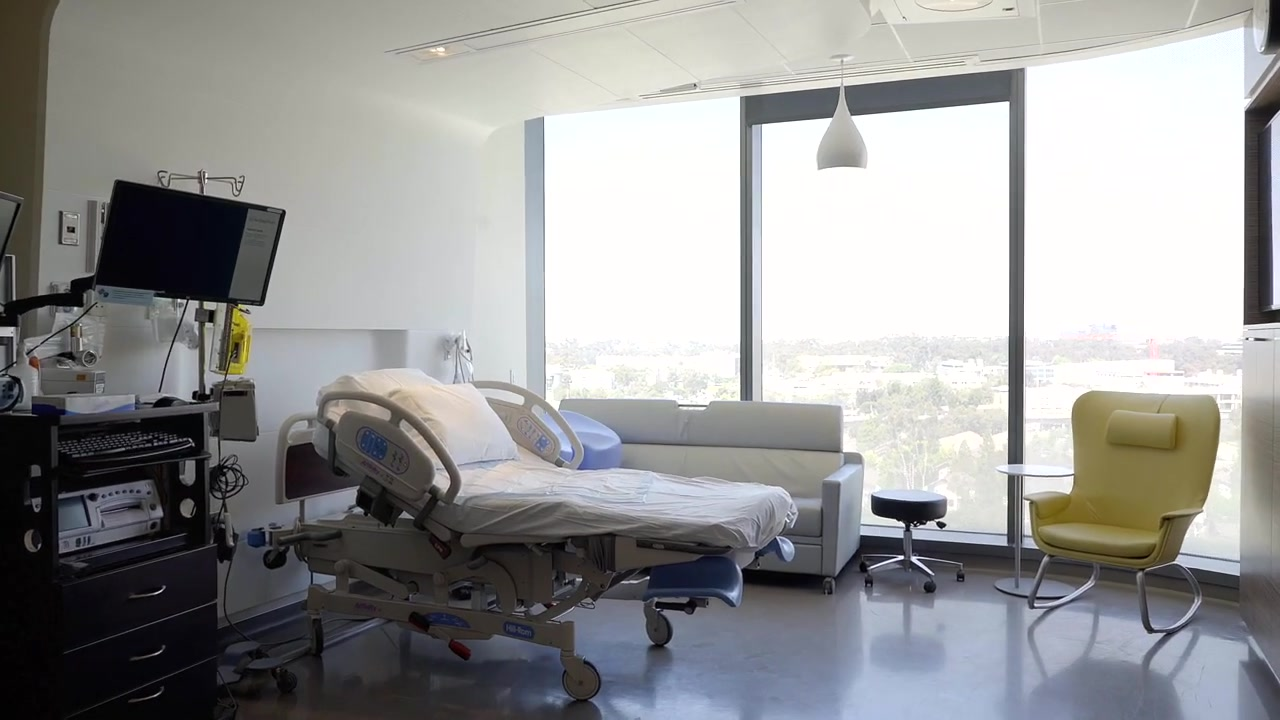bedrail: (316, 392, 463, 528), (470, 381, 583, 471)
chair: (1023, 391, 1221, 633), (861, 488, 965, 599)
computer: (97, 178, 288, 313)
faucet: (271, 368, 803, 699)
handle: (122, 682, 170, 720), (125, 578, 174, 602), (121, 641, 172, 664), (1234, 335, 1273, 350)
iv_pole: (156, 166, 249, 398)
keyboard: (57, 422, 208, 462)
medical_drawer: (1, 410, 218, 720)
mouse: (147, 393, 186, 407)
sofa: (549, 399, 863, 594)
table: (994, 463, 1076, 601)
